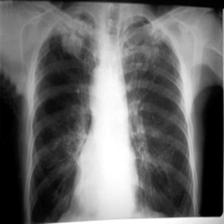tuberculosis: (22, 7, 201, 224)
